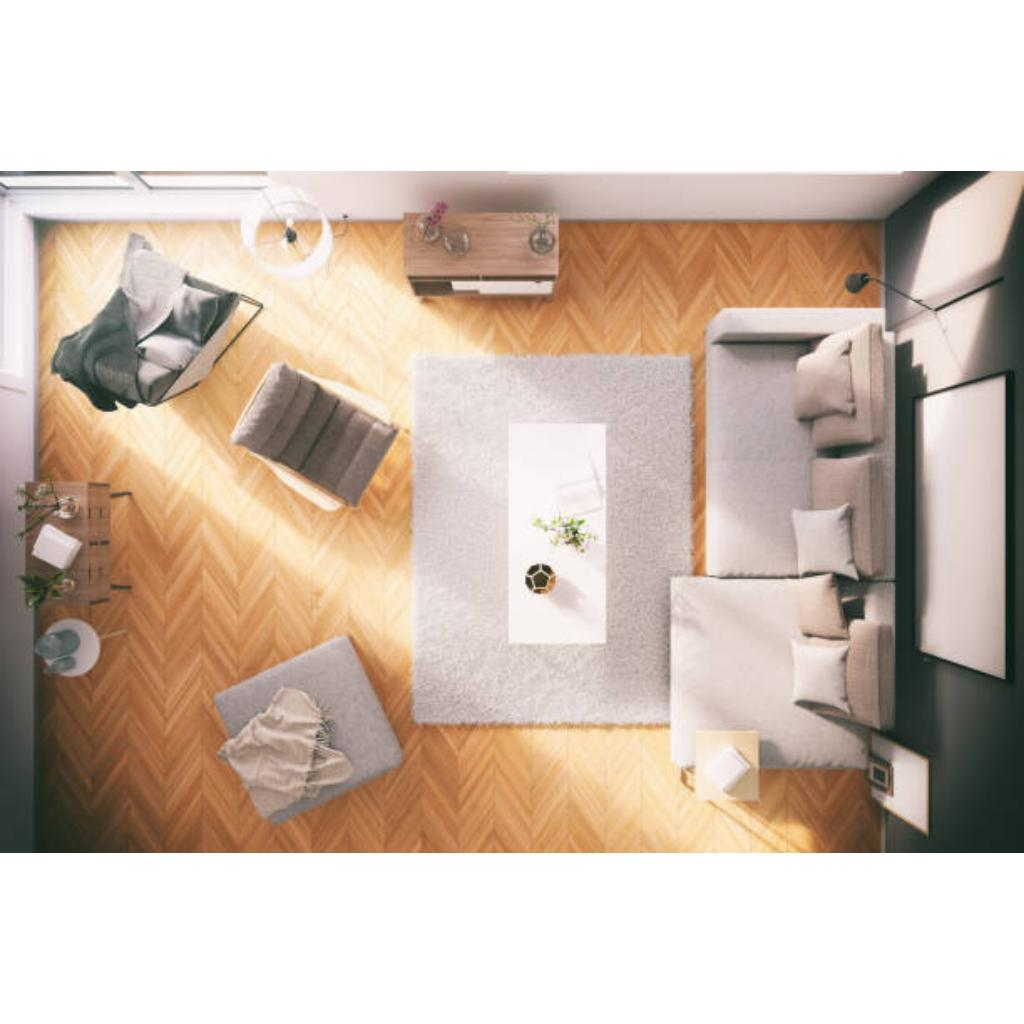cabinet: (25, 481, 113, 607), (25, 484, 111, 604)
chair: (240, 365, 404, 503)
coffee table: (508, 422, 608, 644)
floor lamp: (255, 220, 335, 278)
rocking chair: (215, 636, 401, 818), (54, 236, 232, 404)
rug: (413, 354, 691, 726)
side table: (36, 619, 102, 677)
sideboard: (404, 212, 558, 296)
sofa: (708, 308, 894, 576), (671, 581, 895, 771)
window: (133, 172, 267, 184), (0, 172, 118, 184)
